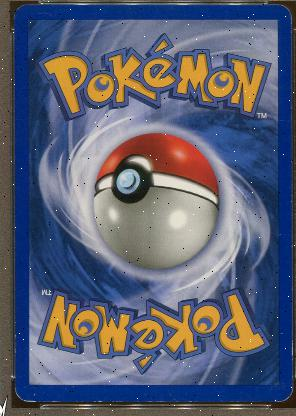Card: (7, 0, 293, 406)
Corner Wear: (14, 384, 37, 404), (271, 386, 293, 404)
Edge Wear: (90, 400, 194, 402), (289, 334, 292, 362), (22, 400, 61, 402), (14, 333, 16, 357)
Scratch: (34, 12, 54, 16)
